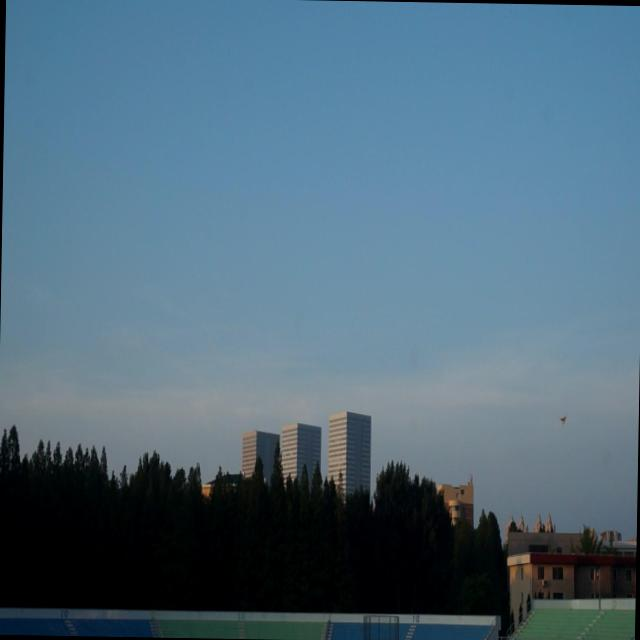drone: (556, 412, 570, 427)
